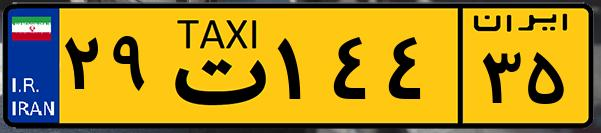1: (270, 28, 330, 110)
2: (57, 26, 110, 100)
3: (475, 38, 525, 113)
4: (385, 28, 445, 110), (330, 28, 385, 110)
5: (525, 38, 570, 115)
9: (110, 28, 158, 98)
ت: (158, 12, 270, 120)
